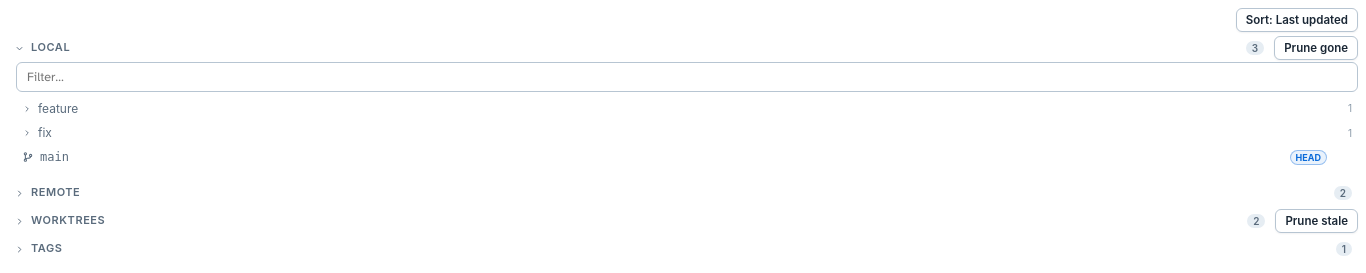
Test: RepoSidebar sections › filters rows within a section and shows shown/total
The width and height of the screenshot is (1366, 273).
Type "LOGIN" into the search field named "Filter local" at (687, 77), box [16, 62, 1358, 92]
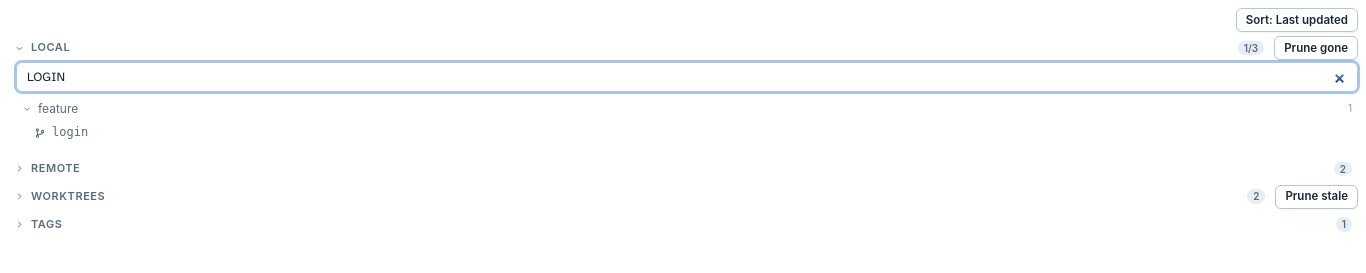
Now the button with aria-label "Jump to feature/login" is shown, box [16, 121, 1333, 145]
Now the text with test id "count-local" reads "1/3", box [1244, 42, 1258, 54]
Replace the text in the search field named "Filter local" with "zzz" at (687, 77), box [16, 62, 1358, 92]
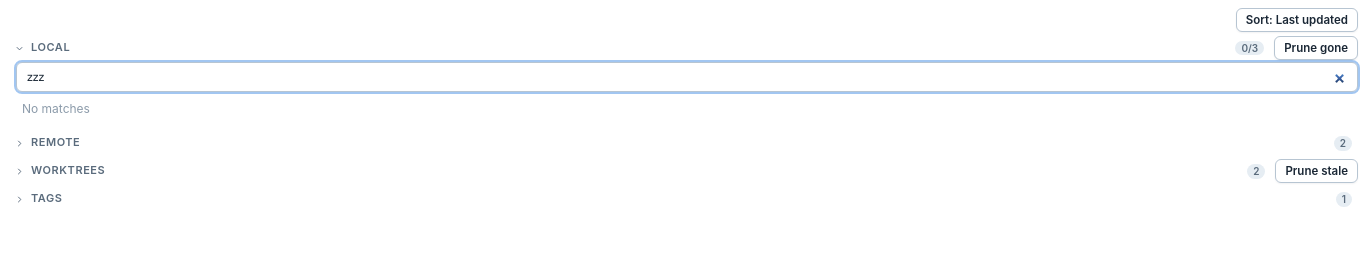
Now the text "No matches" is shown, box [22, 101, 90, 116]
